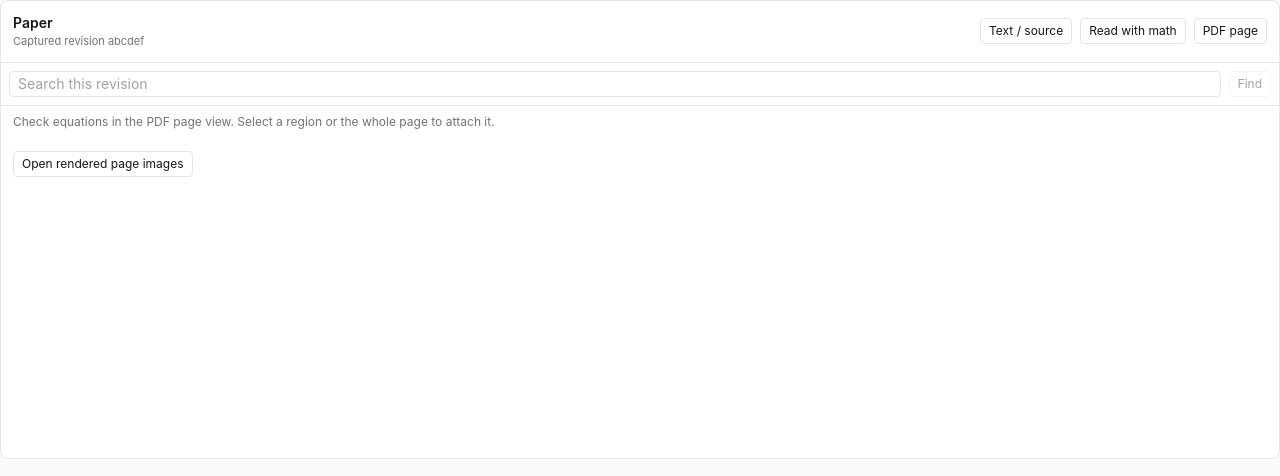
Test case: sanitizes saved and typed page numbers instead of crashing
The image size is (1280, 476).
Click the button "Open rendered page images".
click(103, 164)  # box [13,150,193,176]
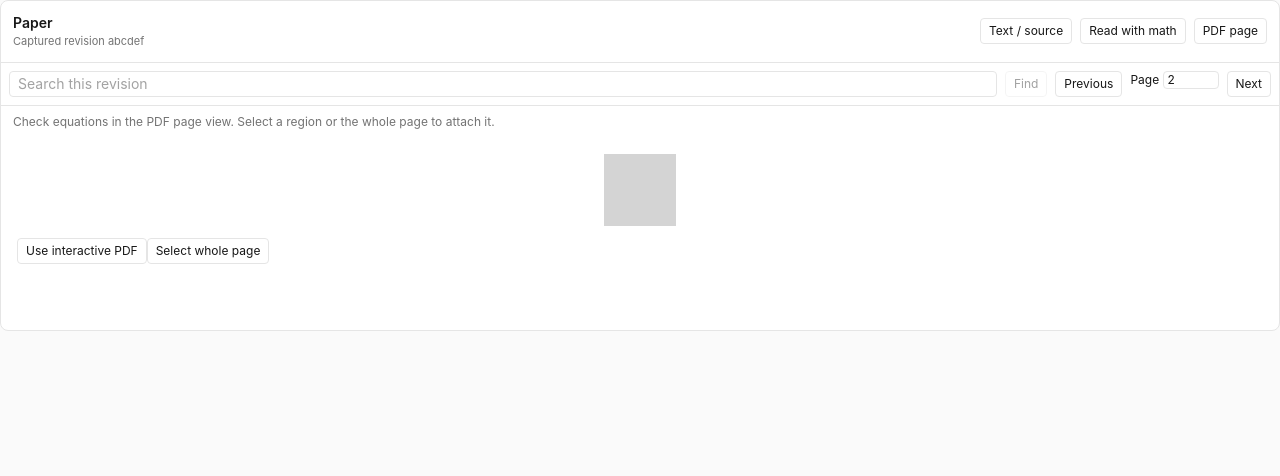
Now the number field named "PDF page" holds "2"
Replace the text in the number field named "PDF page" with "3.7" at coordinates (1190, 80), box [1162,70,1218,88]
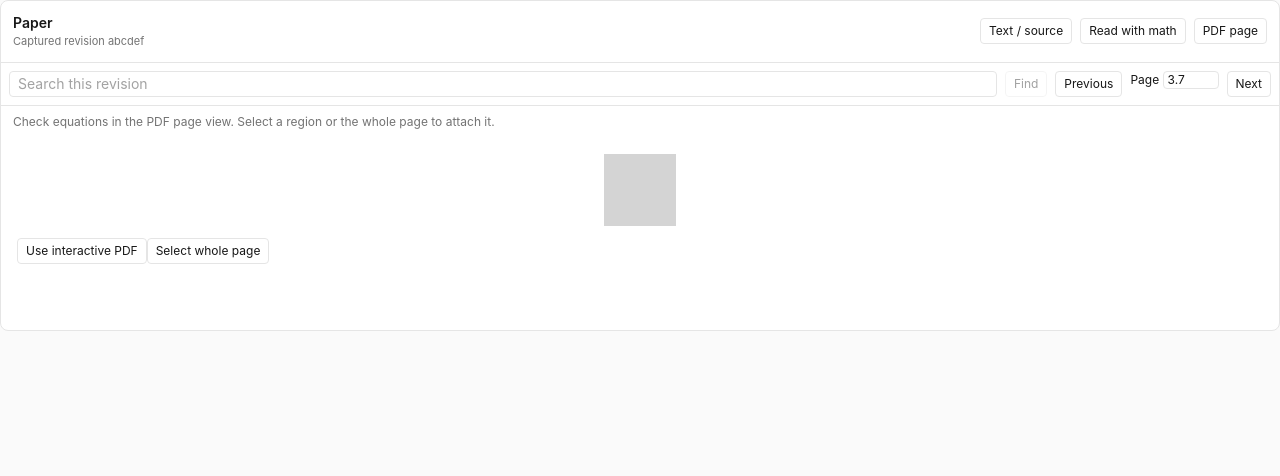
Press Enter in the number field named "PDF page", box [1162,70,1218,88]
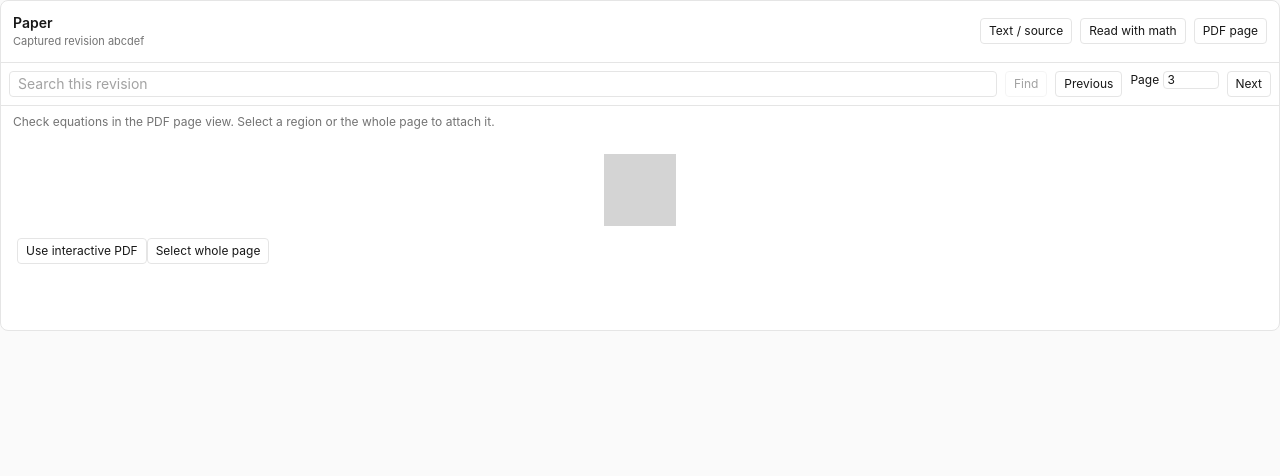
Replace the text in the number field named "PDF page" with "9" at coordinates (1190, 80), box [1162,70,1218,88]
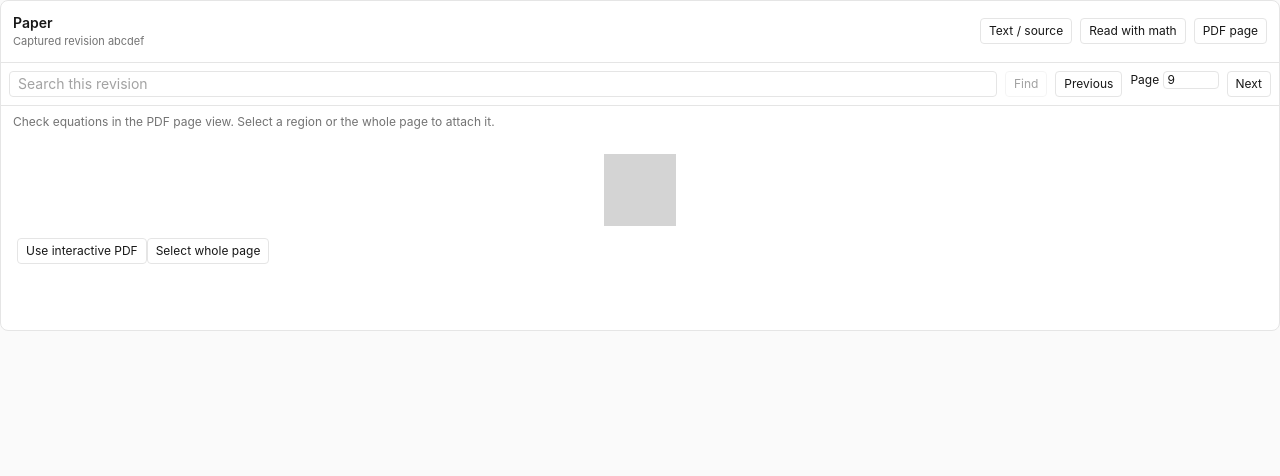
Leave the number field named "PDF page", box [1162,70,1218,88]
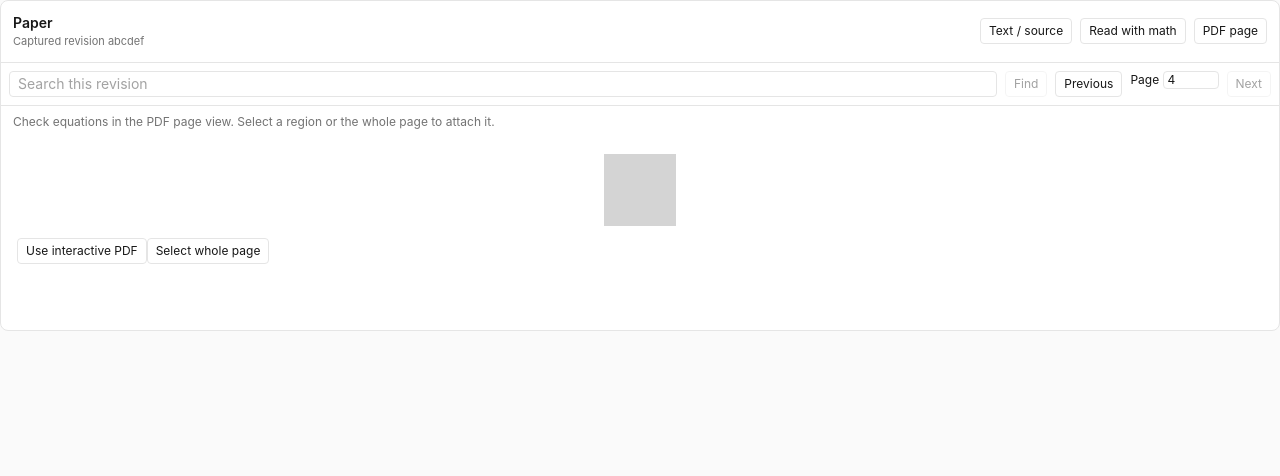
Now the button "Next" is disabled, box [1226,70,1271,96]
